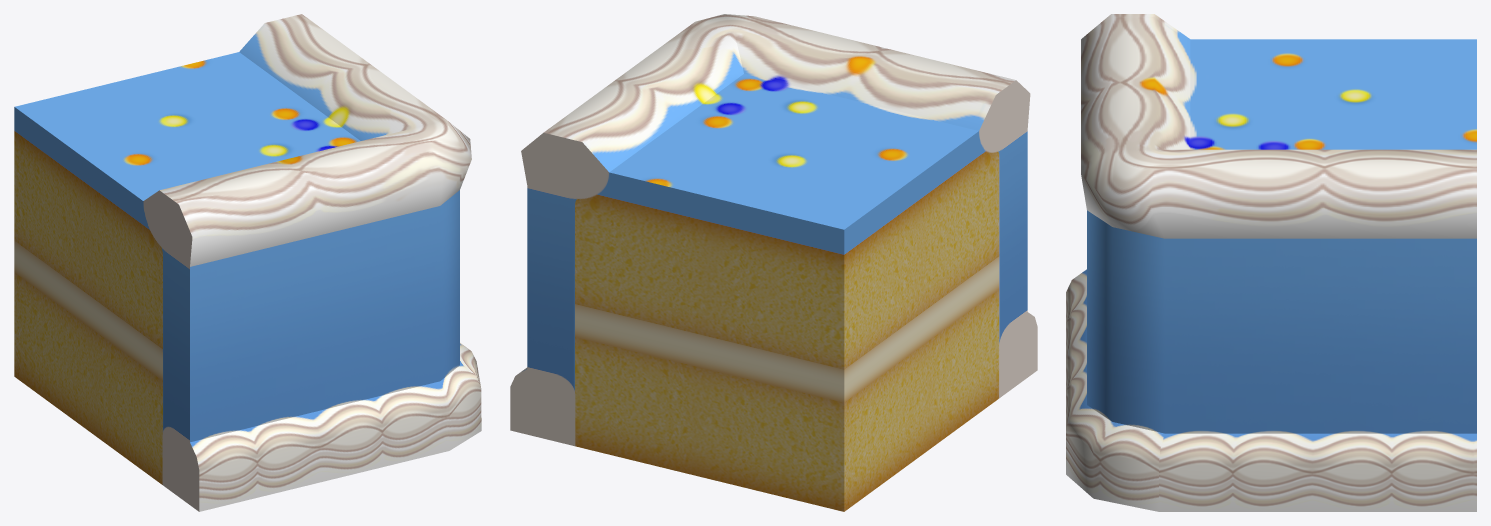
File: SheetCake_01_Slice_07.fbx
3 renders of one model, left to right at view 1: azimuth 30°, elevation 25°; view 2: azimuth 150°, elevation 25°; view 3: azimuth 270°, elevation 25°, orthographic. The views are drawn at different scales.
Parts seen in each view (by area): view 1: SheetCake_01_Slice_07; view 2: SheetCake_01_Slice_07; view 3: SheetCake_01_Slice_07.
Part boxes in pixels (x1=…): SheetCake_01_Slice_07: x1=14, y1=14, x2=481, y2=511; SheetCake_01_Slice_07: x1=510, y1=14, x2=1037, y2=511; SheetCake_01_Slice_07: x1=1066, y1=14, x2=1476, y2=511.
Bounding box in the file's own units: 45.62 × 39.96 × 45.77.
